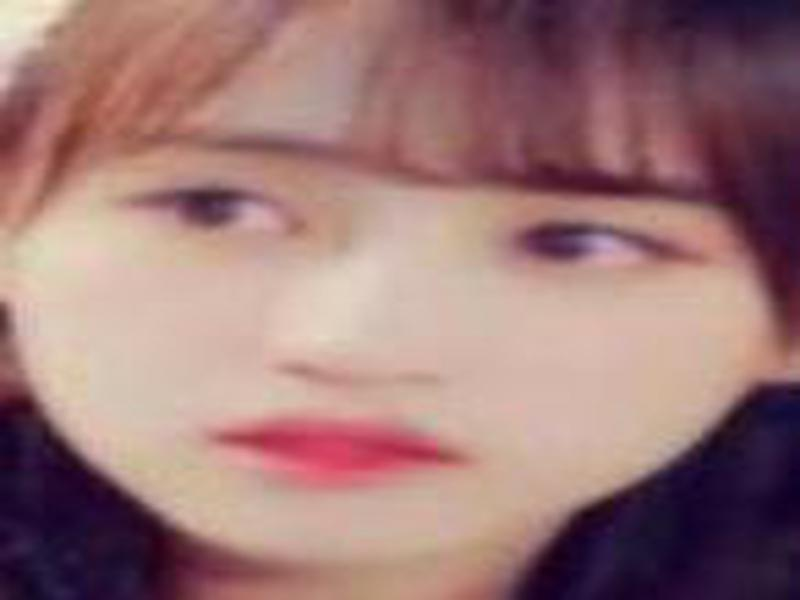without_mask: (4, 99, 791, 564)
